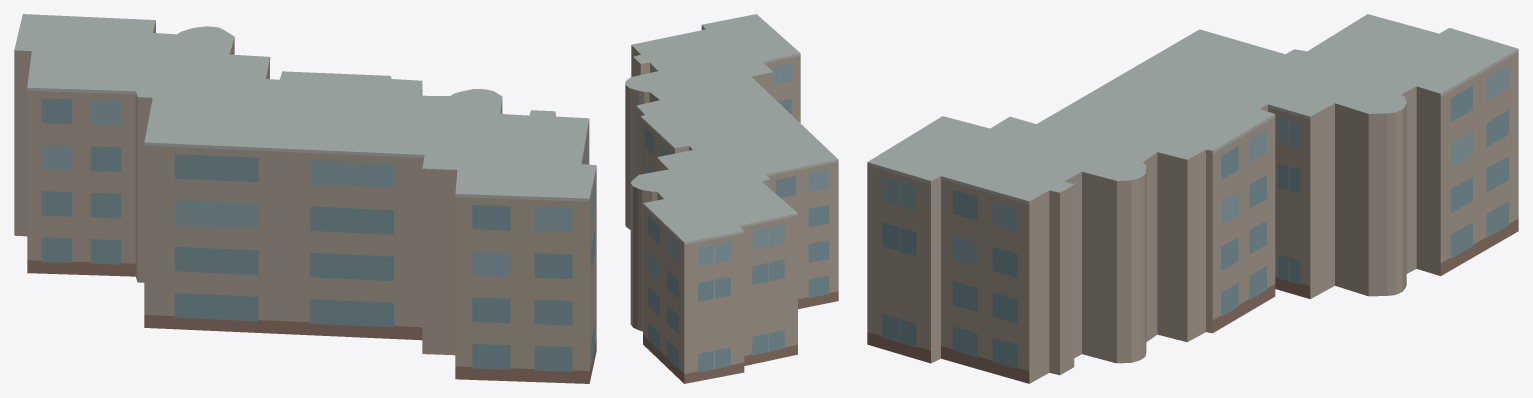
Rendered from survey-upis-32917385.glb.
3 views of the same model, side by side, from view 1: azimuth 30°, elevation 25°; view 2: azimuth 150°, elevation 25°; view 3: azimuth 270°, elevation 25° (orthographic). The views are drawn at different scales.
Visible parts, largest first — view 1: survey-upis-32917385.tmp; view 2: survey-upis-32917385.tmp; view 3: survey-upis-32917385.tmp.
Part boxes in pixels (bbox=[...]): survey-upis-32917385.tmp: bbox=[14, 14, 596, 383]; survey-upis-32917385.tmp: bbox=[625, 14, 838, 383]; survey-upis-32917385.tmp: bbox=[867, 14, 1518, 383].
Bounding box in the file's own units: 31.51 × 14.3 × 46.26.
